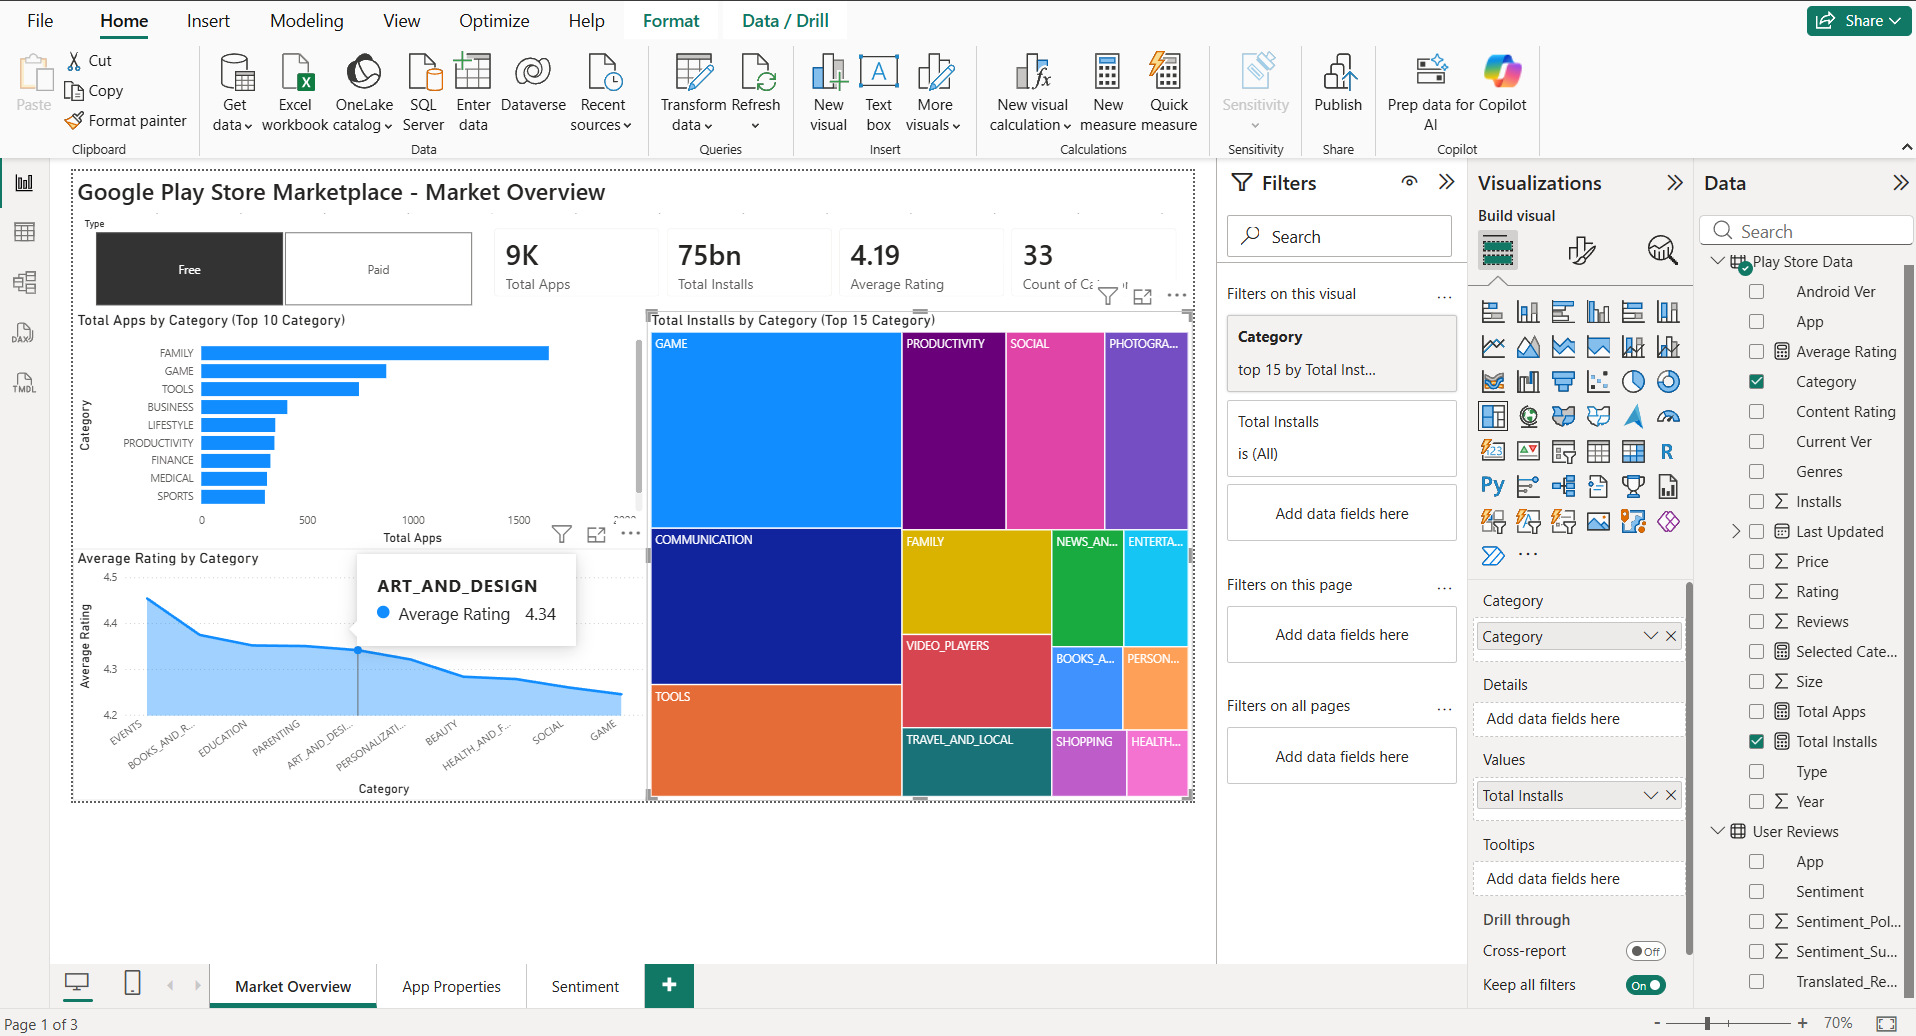

The dashboard page shown, as its layout file describes it:
{"tool":"powerbi","page":{"name":"Market Overview","canvas":[1280,720],"ordinal":0},"visuals":[{"type":"textbox","box":[0,0,1280,48],"z":0},{"type":"slicer","fields":{"Values":["Play Store Data.Type"]},"box":[0,48,480,112],"z":1000},{"type":"cardVisual","fields":{"Data":["Play Store Data.Total Apps","Play Store Data.Total Installs","Play Store Data.Average Rating","Count(Play Store Data.Category)"]},"box":[464,48,816,112],"z":2000},{"type":"clusteredBarChart","title":"Total Apps by Category (Top 10 Category)","fields":{"Category":["Play Store Data.Category"],"Y":["Play Store Data.Total Apps"]},"box":[0,160,656,272],"z":3000},{"type":"treemap","title":"Total Installs by Category (Top 15 Category)","fields":{"Values":["Play Store Data.Total Installs"],"Group":["Play Store Data.Category"]},"box":[656,160,624,560],"z":4000},{"type":"areaChart","fields":{"Category":["Play Store Data.Category"],"Y":["Play Store Data.Average Rating"]},"box":[0,432,656,288],"z":5000}]}

Visuals, with their boxes on the page's 1280x720 design canvas (x1, y1, x2, y2). These are canvas units, not pixel positions in the 1916x1036 screenshot, which may show the page scaled, cropped or inside an application window:
textbox: 0/0/1280/48
slicer - Play Store Data.Type: 0/48/480/160
cardVisual - Play Store Data.Total Apps x Play Store Data.Total Installs: 464/48/1280/160
"Total Apps by Category (Top 10 Category)" clusteredBarChart: 0/160/656/432
"Total Installs by Category (Top 15 Category)" treemap: 656/160/1280/720
areaChart - Play Store Data.Category x Play Store Data.Average Rating: 0/432/656/720
